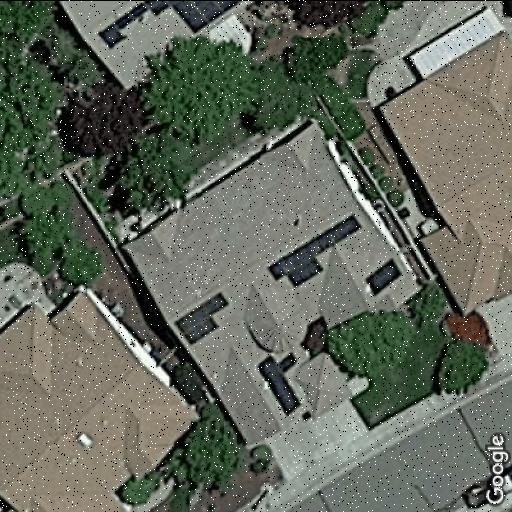solar-panel: (265, 212, 361, 290), (92, 0, 235, 50), (170, 288, 228, 348), (254, 346, 300, 418), (360, 255, 404, 299)
